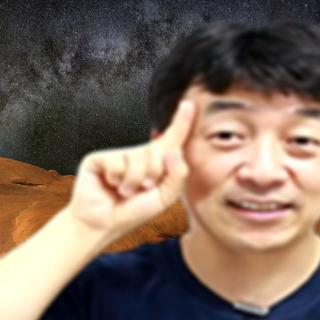IRRITATED: (68, 96, 201, 241)
